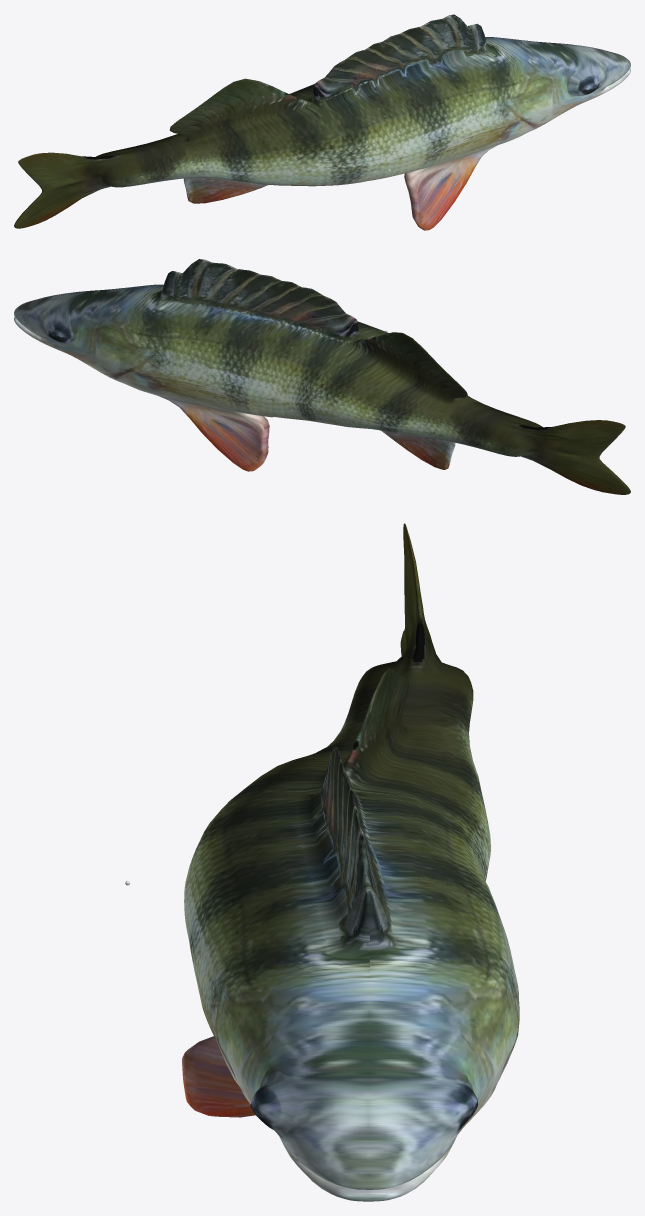
The model's file is bass.glb.
3 renders of one model, top to bottom at view 1: azimuth 30°, elevation 25°; view 2: azimuth 150°, elevation 25°; view 3: azimuth 270°, elevation 25°, orthographic. The views are drawn at different scales.
Visible parts, largest first — view 1: Icosphere.001; view 2: Icosphere.001; view 3: Icosphere.001.
Boxes of the visible parts, x1,y1,x2,y2 form: Icosphere.001: (14, 14, 630, 230); Icosphere.001: (14, 259, 630, 494); Icosphere.001: (125, 523, 519, 1201).
Size of the model in its own units: 1 by 0.2656 by 0.2821.
1 material, 1 textured.
